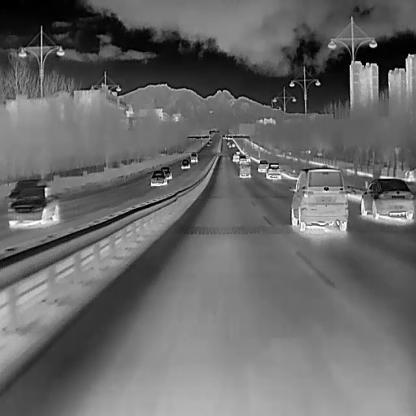car: (288, 167, 348, 231), (6, 185, 60, 229), (360, 177, 414, 221), (8, 178, 47, 203), (265, 163, 282, 180), (150, 169, 166, 186), (159, 166, 172, 180), (239, 162, 250, 178), (256, 160, 268, 173), (180, 158, 190, 169), (189, 151, 198, 162), (244, 152, 251, 162), (238, 154, 245, 163), (232, 153, 239, 161), (235, 149, 240, 154), (231, 141, 235, 147), (226, 139, 230, 145), (205, 141, 209, 146), (208, 138, 212, 143), (228, 143, 232, 147)
